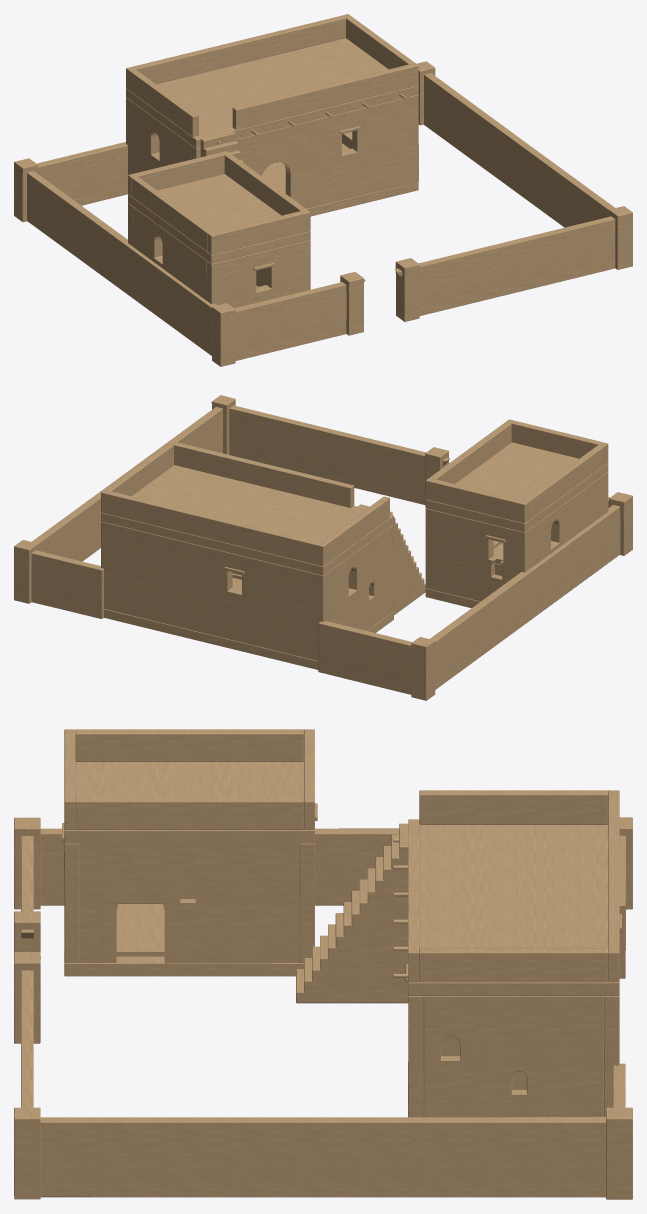
File: court_18.glb
3 views of the same model, one above another, from view 1: azimuth 30°, elevation 25°; view 2: azimuth 150°, elevation 25°; view 3: azimuth 270°, elevation 25° (orthographic). The views are drawn at different scales.
Visible parts, largest first — view 1: court; view 2: court; view 3: court.
Boxes of the visible parts, left/top/right/bottom form: court: left=14, top=14, right=632, bottom=366; court: left=14, top=395, right=632, bottom=700; court: left=14, top=729, right=632, bottom=1199.
Size of the model in its own units: 19.26 by 5.59 by 16.71.
1 material, 1 textured.
